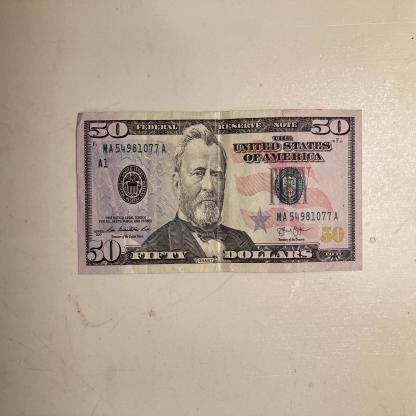fifty-front: (76, 110, 364, 274)
